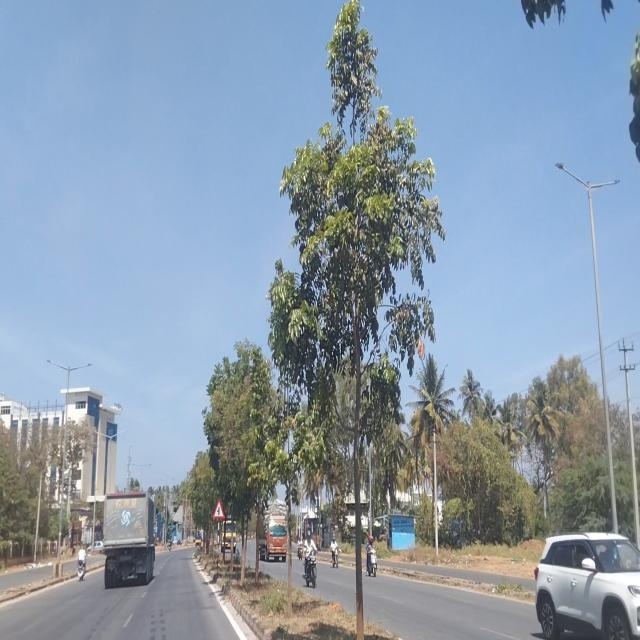bien_nguy_hiem: (212, 498, 225, 522)
